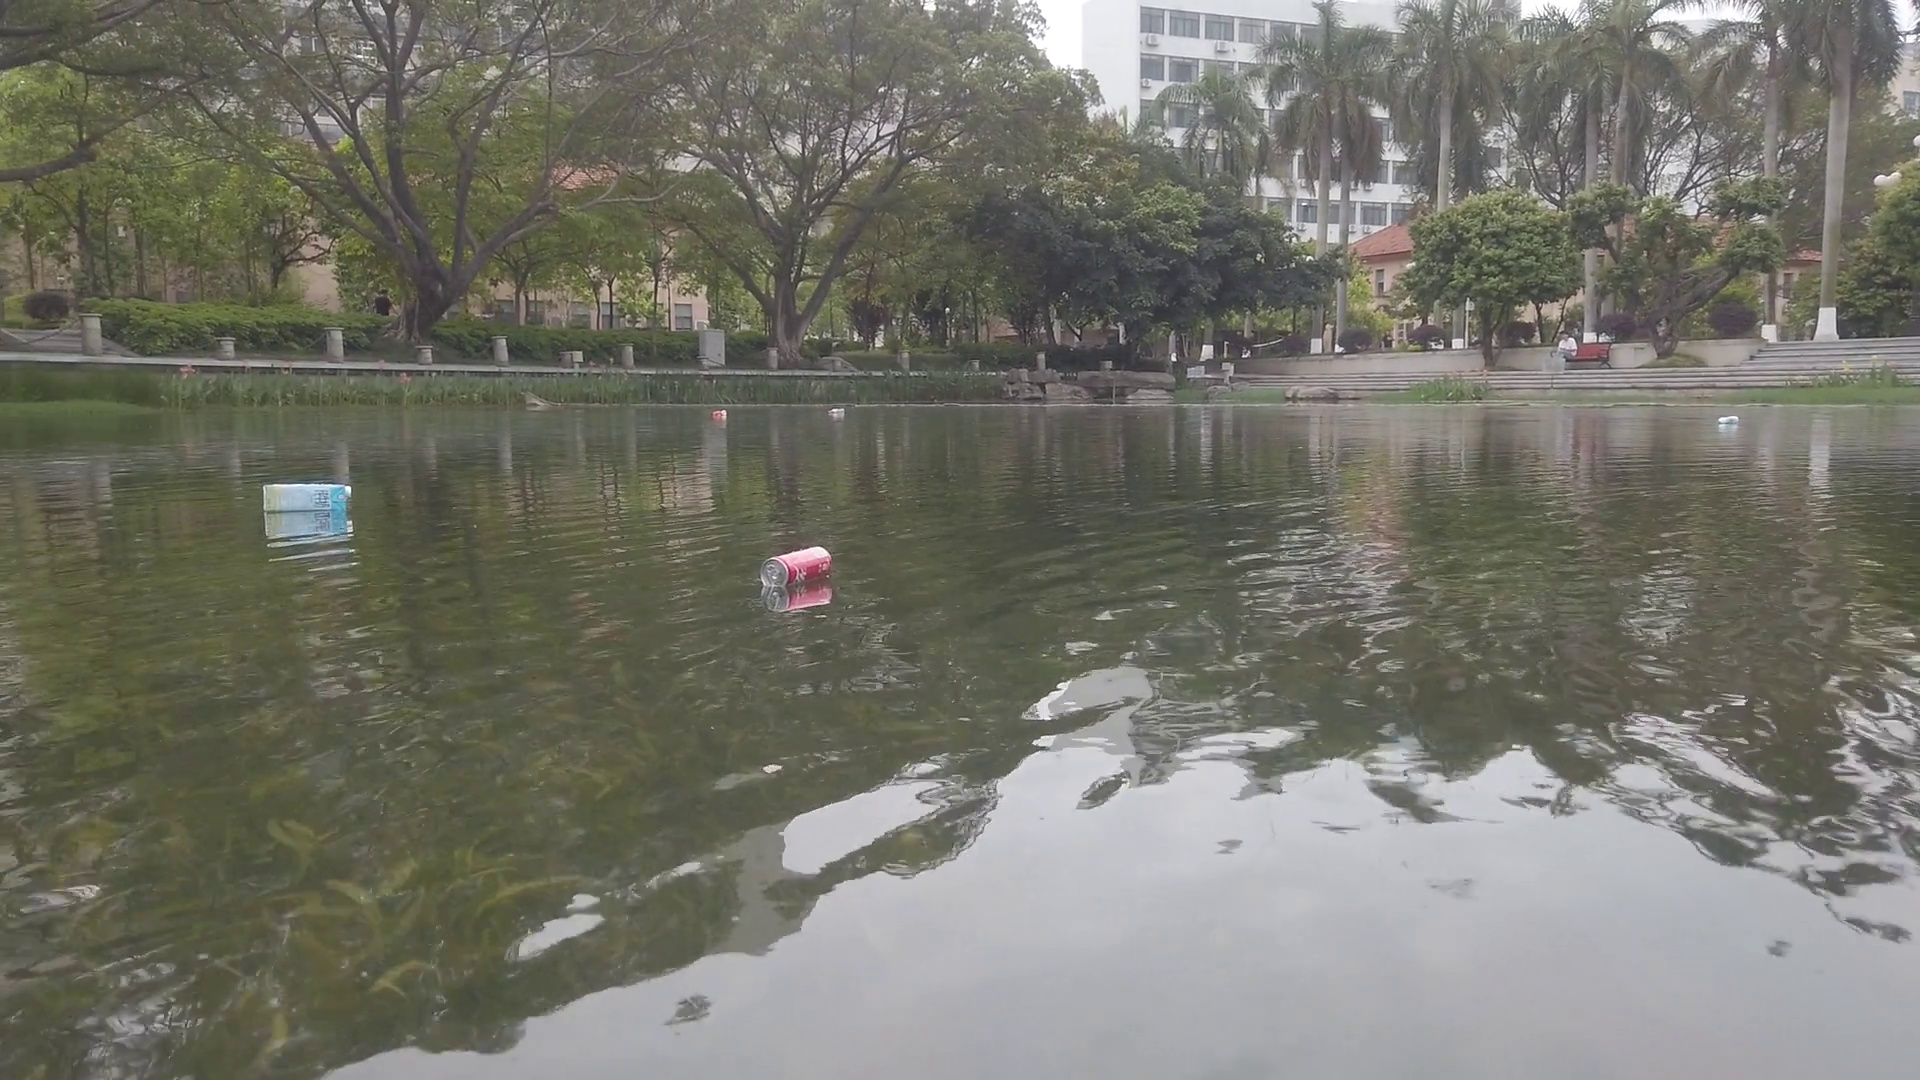bottle: (758, 545, 832, 588), (1717, 414, 1741, 425), (829, 406, 845, 417), (712, 409, 727, 418)
carton: (258, 484, 357, 514)
